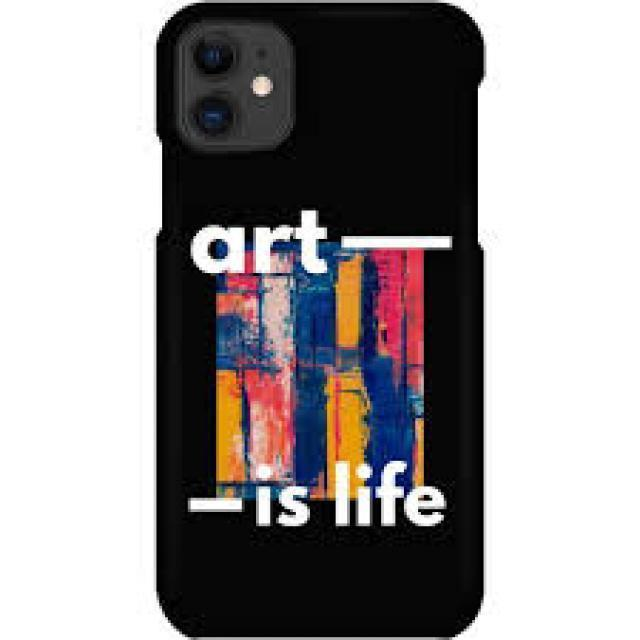phone: (141, 4, 490, 638)
